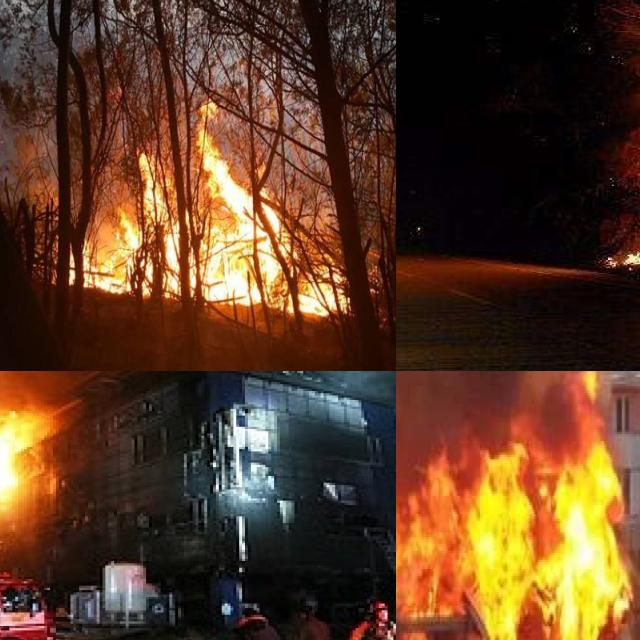fire: (53, 99, 354, 322), (396, 377, 632, 640), (0, 413, 27, 504)
smoke: (0, 371, 82, 572), (396, 371, 611, 418)
